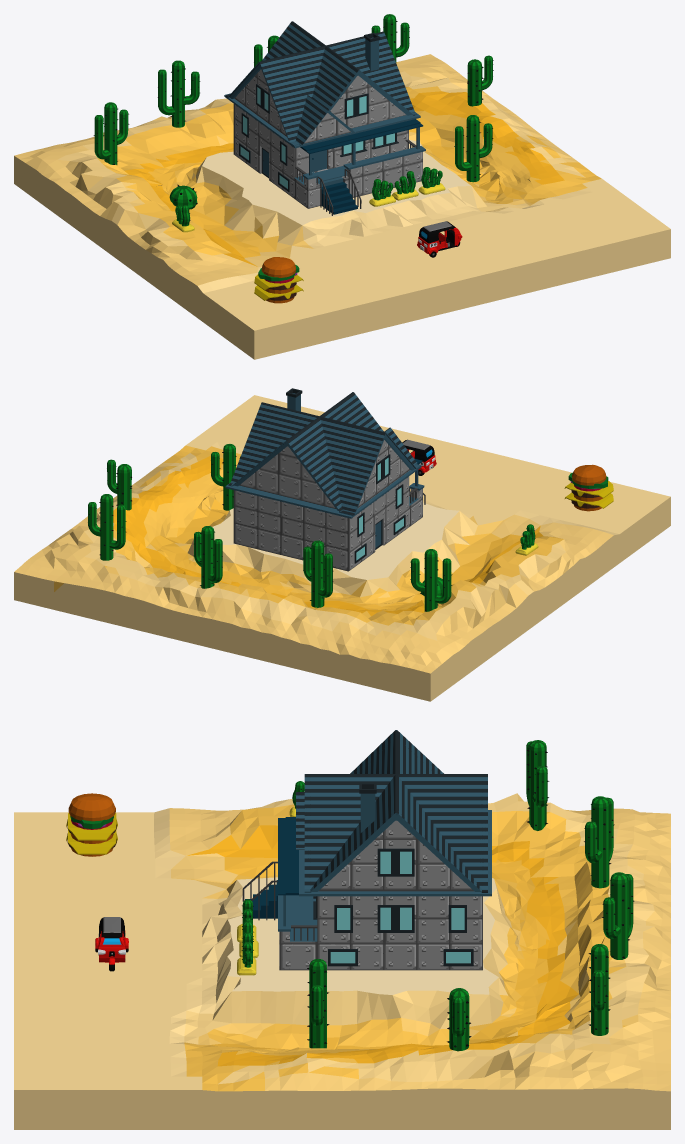
The picture shows the model from 3 angles, top to bottom: view 1: azimuth 30°, elevation 25°; view 2: azimuth 150°, elevation 25°; view 3: azimuth 270°, elevation 25°; orthographic projection. The views are drawn at different scales.
Visible parts, largest first — view 1: Cube.001, Cube.078, OBJRANDOM_HAMBURGER, Cylinder.037, Cylinder.044, Cylinder.045, VEHICLES_TUC_TUC, Cylinder.038, Cylinder.042, Cylinder.039, Cylinder.041, Sphere.023 (+1 smaller); view 2: Cube.001, Cube.078, OBJRANDOM_HAMBURGER, Cylinder.042, Cylinder.045, Cylinder.044, Cylinder.043, Cylinder.037, Cylinder.038, VEHICLES_TUC_TUC; view 3: Cube.001, Cube.078, OBJRANDOM_HAMBURGER, Cylinder.043, Cylinder.044, Cylinder.045, Cylinder.042, Cylinder.037, VEHICLES_TUC_TUC, Cylinder.038, Cylinder.041.
Part boxes in pixels (bbox=[...]): Cube.001: bbox=[14, 54, 670, 359]; Cube.078: bbox=[224, 21, 425, 215]; OBJRANDOM_HAMBURGER: bbox=[254, 257, 303, 303]; Cylinder.037: bbox=[454, 115, 493, 182]; Cylinder.044: bbox=[157, 60, 200, 127]; Cylinder.045: bbox=[93, 102, 129, 164]; VEHICLES_TUC_TUC: bbox=[417, 221, 462, 257]; Cylinder.038: bbox=[467, 55, 493, 106]; Cylinder.042: bbox=[371, 14, 409, 62]; Cylinder.039: bbox=[369, 179, 395, 206]; Cylinder.041: bbox=[418, 167, 445, 194]; Sphere.023: bbox=[169, 184, 197, 209]; Cube.001: bbox=[14, 395, 670, 701]; Cube.078: bbox=[225, 388, 425, 571]; OBJRANDOM_HAMBURGER: bbox=[564, 464, 613, 511]; Cylinder.042: bbox=[88, 494, 126, 560]; Cylinder.045: bbox=[410, 549, 452, 611]; Cylinder.044: bbox=[303, 540, 333, 607]; Cylinder.043: bbox=[193, 526, 222, 588]; Cylinder.037: bbox=[211, 444, 240, 510]; Cylinder.038: bbox=[107, 459, 131, 510]; VEHICLES_TUC_TUC: bbox=[402, 439, 436, 475]; Cube.001: bbox=[14, 793, 670, 1129]; Cube.078: bbox=[242, 730, 491, 970]; OBJRANDOM_HAMBURGER: bbox=[66, 793, 117, 856]; Cylinder.043: bbox=[602, 872, 634, 959]; Cylinder.044: bbox=[584, 796, 614, 888]; Cylinder.045: bbox=[526, 740, 549, 830]; Cylinder.042: bbox=[588, 944, 610, 1035]; Cylinder.037: bbox=[307, 959, 329, 1048]; VEHICLES_TUC_TUC: bbox=[95, 917, 128, 971]; Cylinder.038: bbox=[447, 988, 471, 1051]; Cylinder.041: bbox=[237, 932, 256, 975].
Size of the model in its own units: 4002 by 1643 by 4001.
Materials: 31 (4 with a texture image).
